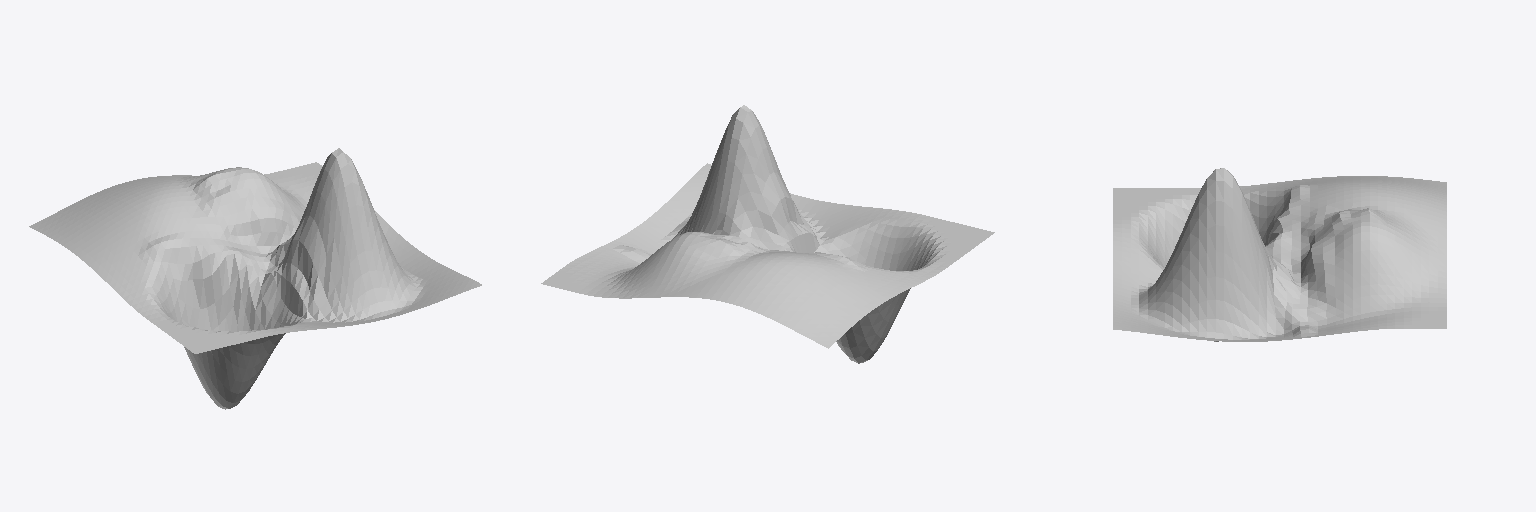
File: bumps.obj
3 views of the same model, side by side, from view 1: azimuth 30°, elevation 25°; view 2: azimuth 150°, elevation 25°; view 3: azimuth 270°, elevation 25° (orthographic).
Parts seen in each view (by area): view 1: Grid; view 2: Grid; view 3: Grid.
Boxes of the visible parts, <box> form: Grid: <box>29,148,481,409</box>; Grid: <box>541,105,994,363</box>; Grid: <box>1113,168,1446,341</box>.
Bounding box in the file's own units: 2 × 1.52 × 2.